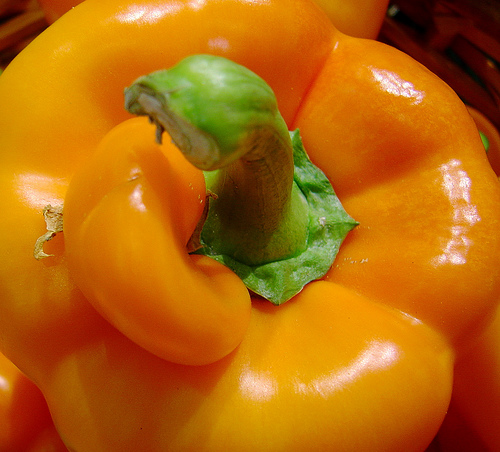capsicum: (0, 0, 498, 450)
